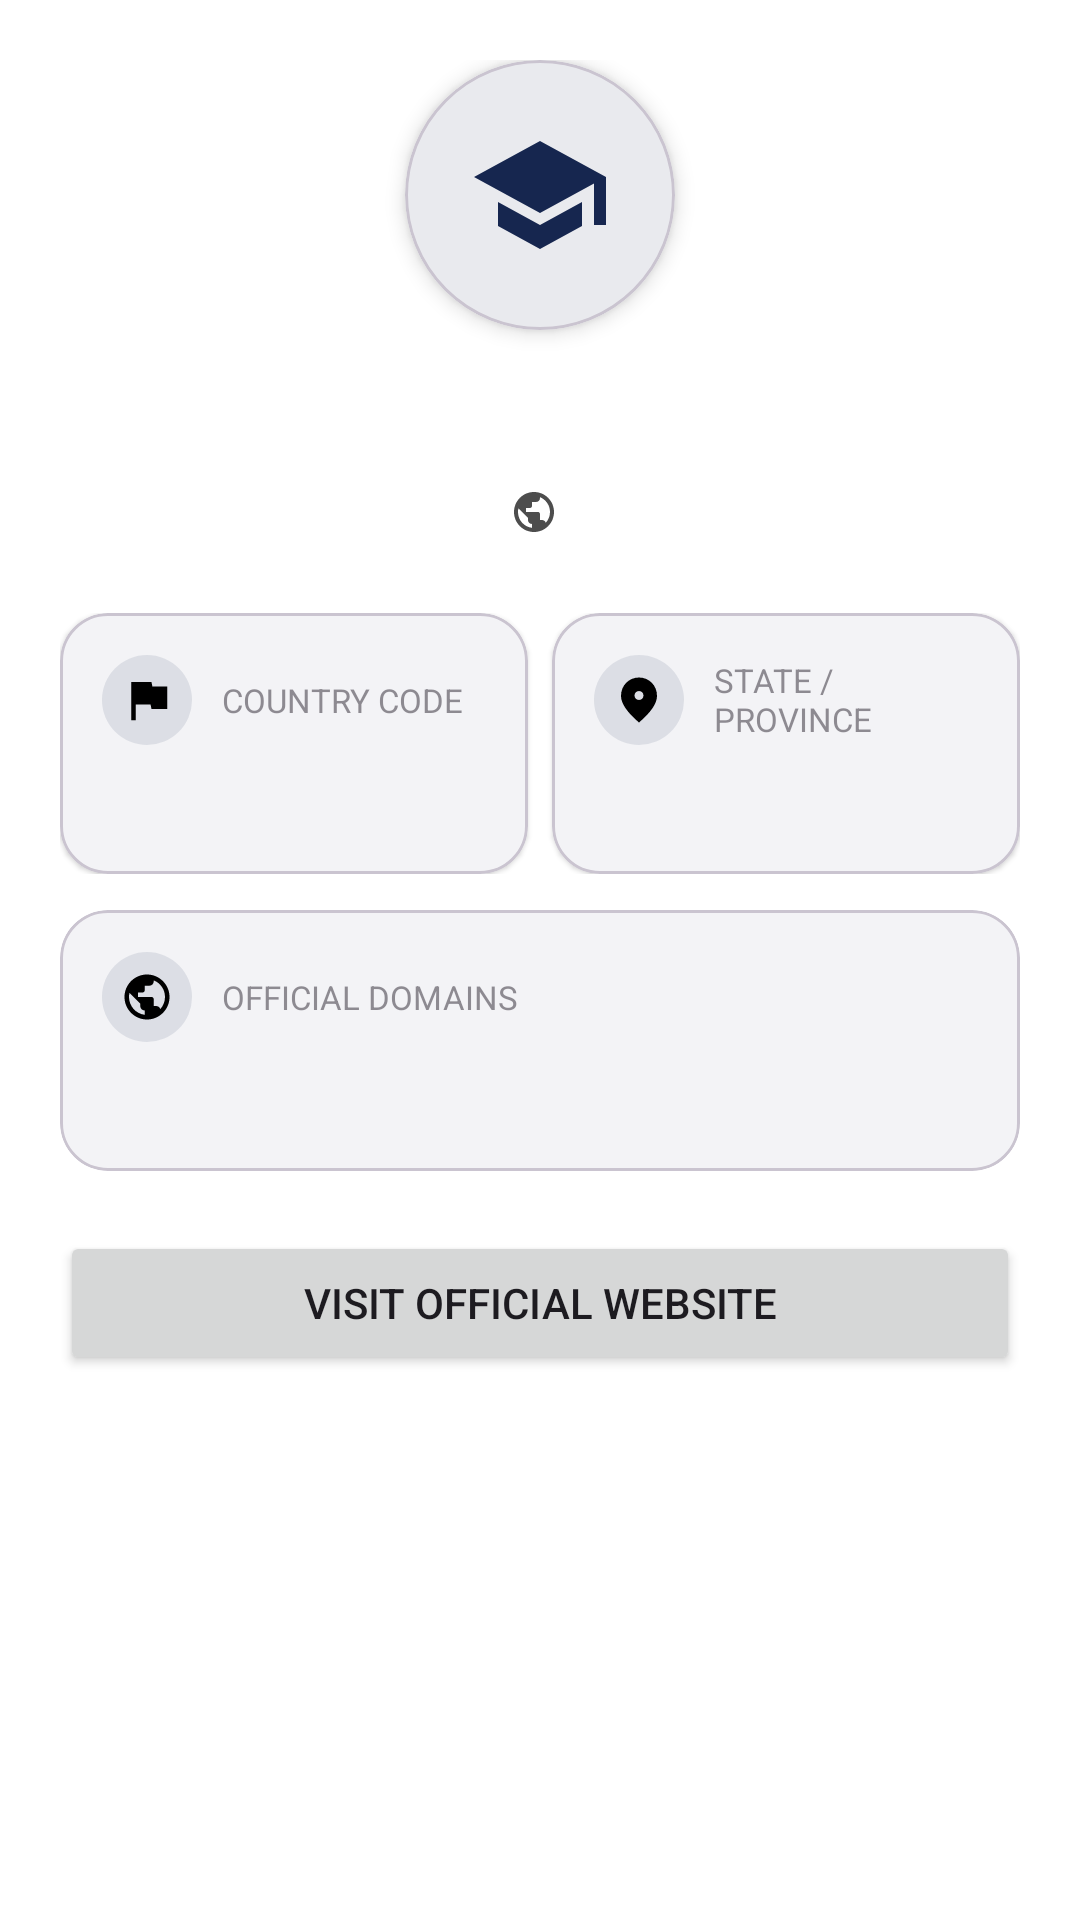

Named icons in this screenshot (1080*1920) and their bounding boxes, detection(x1, y1, x2, y2):
flag: detection(131, 682, 168, 721)
globe: detection(514, 492, 554, 532), detection(124, 974, 170, 1020)
pin: detection(621, 677, 657, 723)
university: detection(474, 141, 606, 249)
